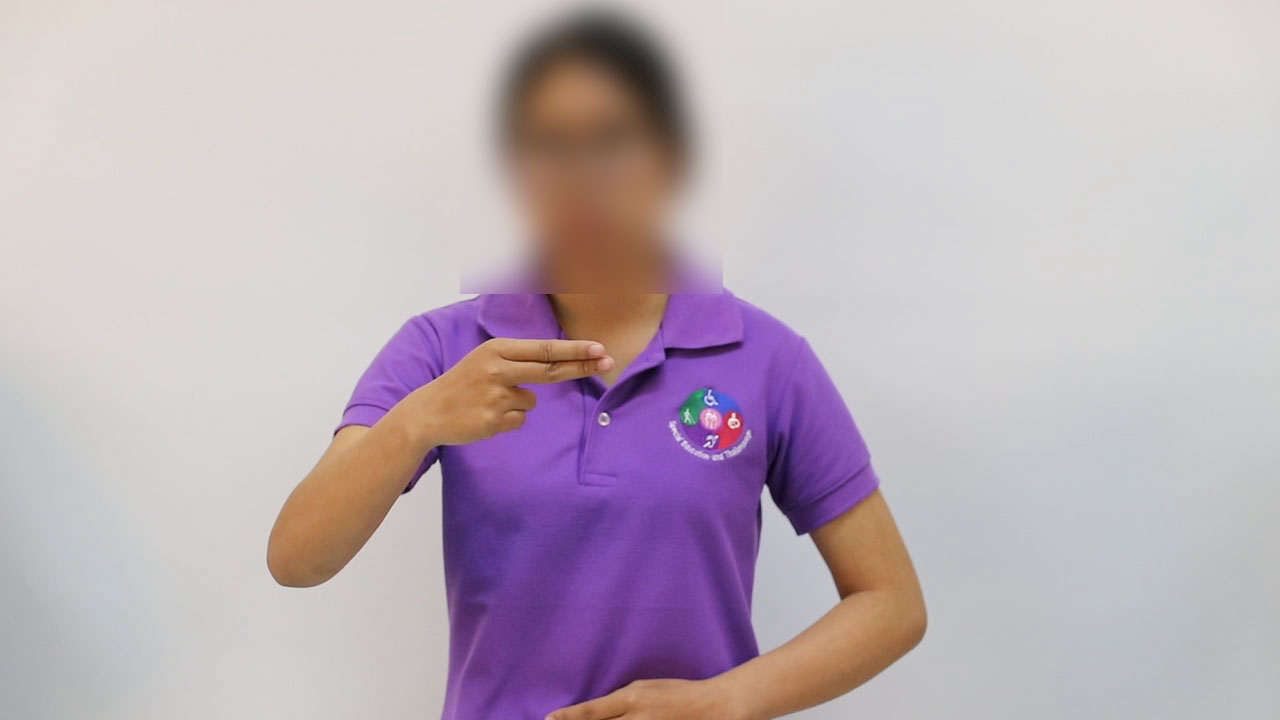hor: (402, 323, 636, 455)
